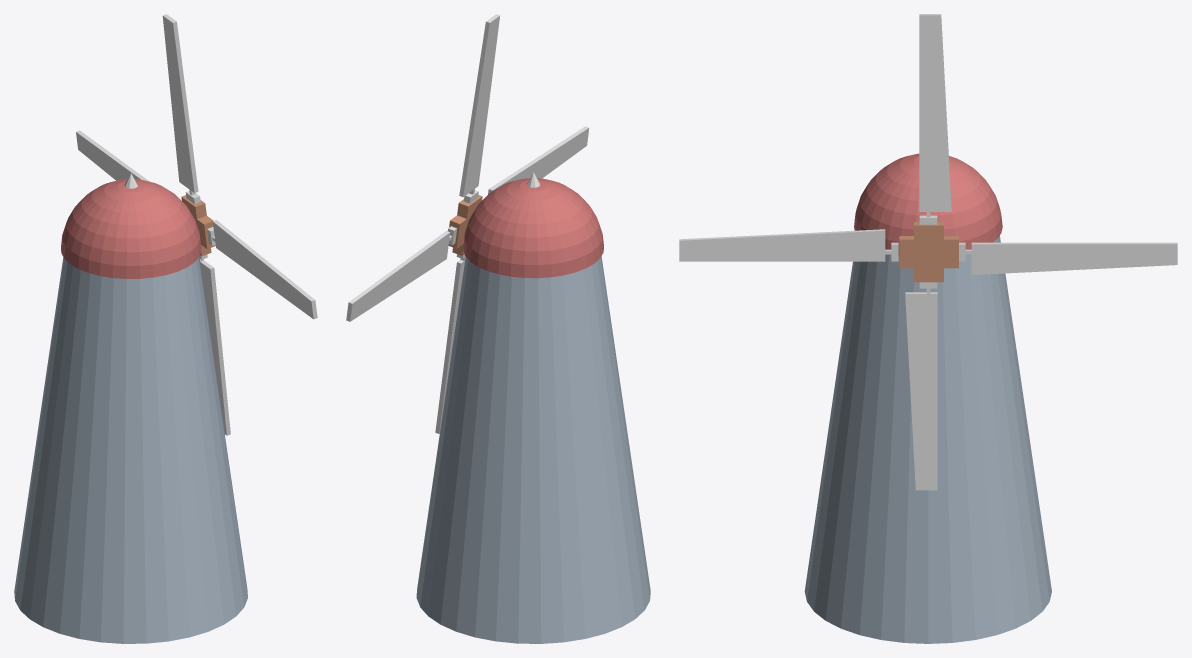
File: windmill.fbx
The picture shows the model from 3 angles, left to right: view 1: azimuth 30°, elevation 25°; view 2: azimuth 150°, elevation 25°; view 3: azimuth 270°, elevation 25°; orthographic projection. The views are drawn at different scales.
Visible parts, largest first — view 1: windmill_body, fan; view 2: windmill_body, fan; view 3: windmill_body, fan.
Part boxes in pixels (<box>): windmill_body: <box>14,173,247,643</box>; fan: <box>76,14,317,435</box>; windmill_body: <box>416,172,650,643</box>; fan: <box>346,14,589,433</box>; windmill_body: <box>804,153,1051,643</box>; fan: <box>679,14,1177,490</box>.
Bounding box in the file's own units: 200 × 533 × 403.
